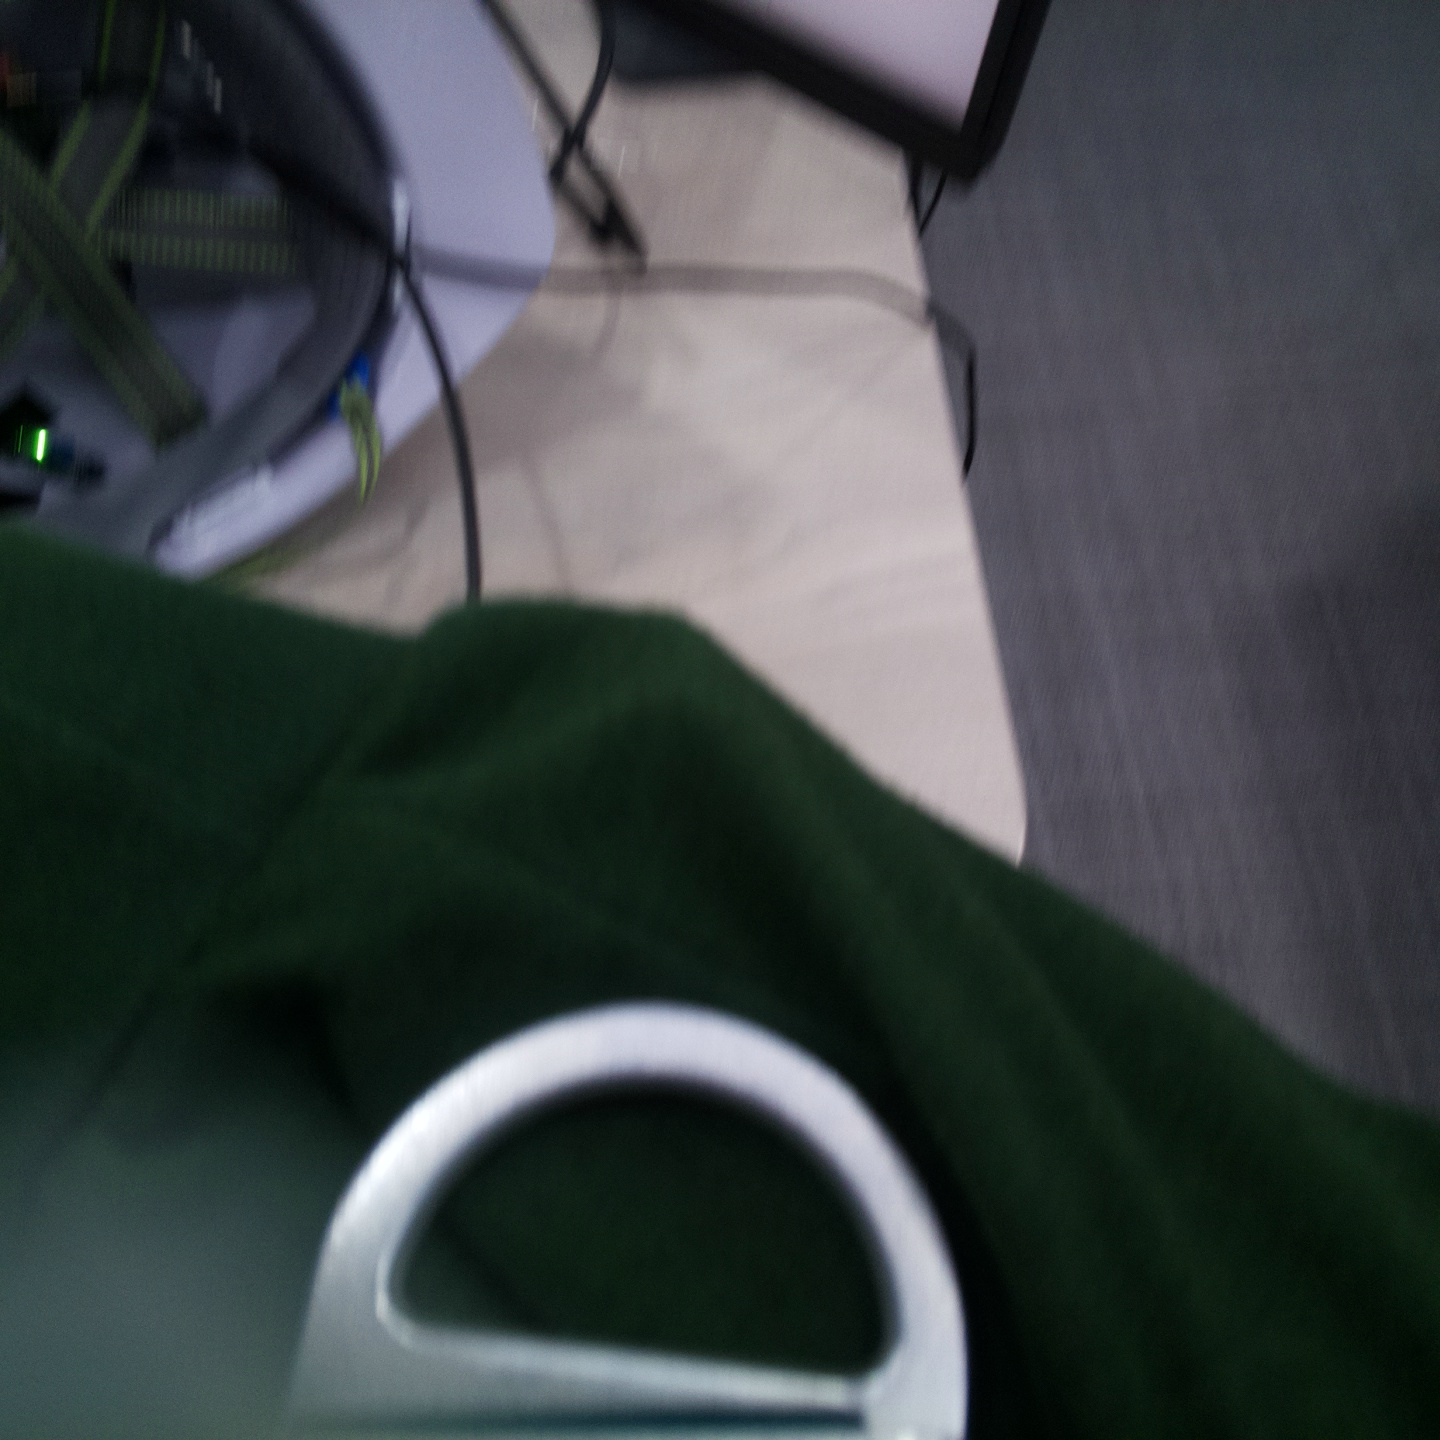UNSUCCESS: (287, 1002, 975, 1420)
